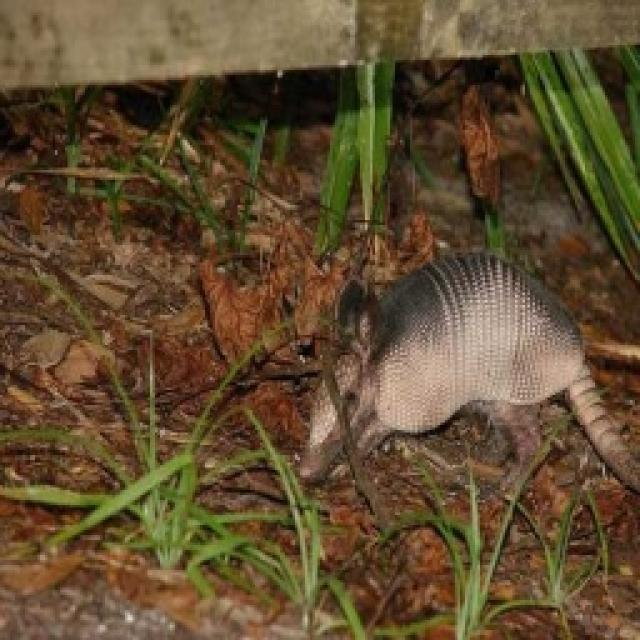not_pig: (295, 247, 637, 525)
